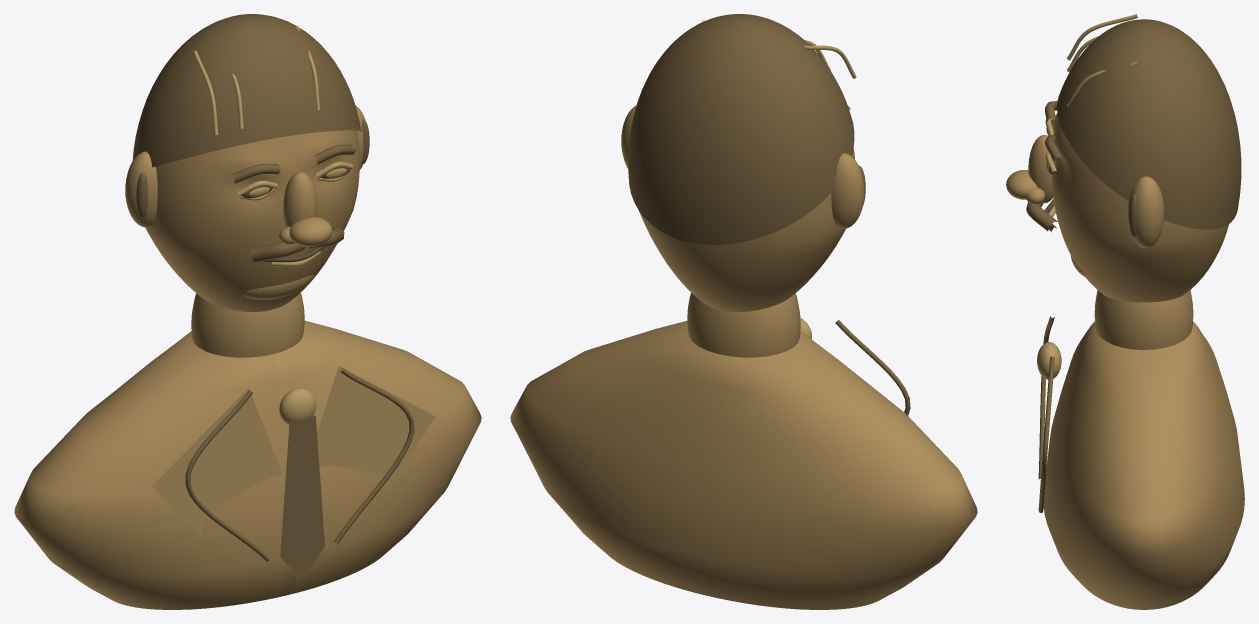
File: epitacio.glb
The picture shows the model from 3 angles, left to right: view 1: azimuth 30°, elevation 25°; view 2: azimuth 150°, elevation 25°; view 3: azimuth 270°, elevation 25°; orthographic projection. The views are drawn at different scales.
Parts seen in each view (by area): view 1: epitacio; view 2: epitacio; view 3: epitacio.
Boxes of the visible parts, x1,y1,x2,y2 form: epitacio: (14, 14, 481, 609); epitacio: (510, 14, 977, 609); epitacio: (1006, 14, 1244, 609).
Bounding box in the file's own units: 1.22 × 1.39 × 0.58.
